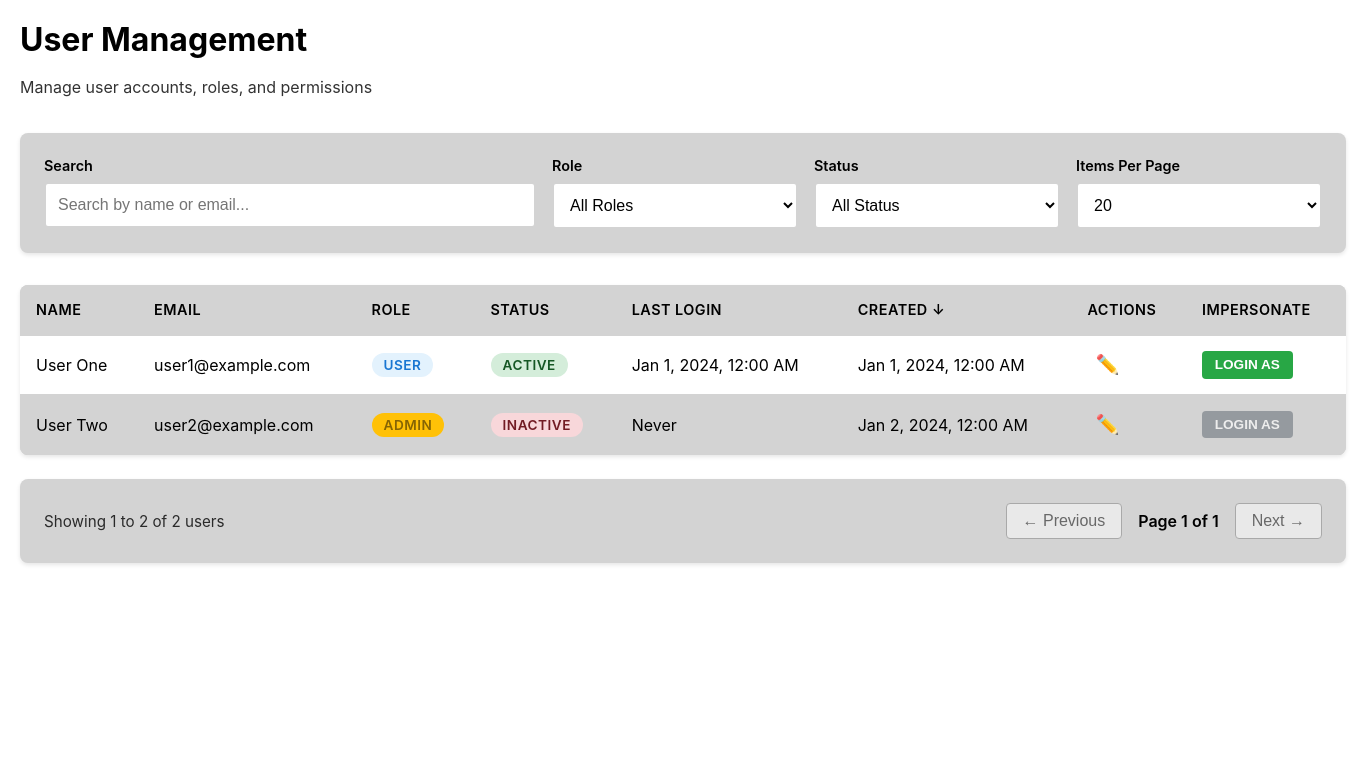
Test case: UserManagement › should open edit modal when edit button is clicked
Expected: the text "User One" is shown, [20, 335, 138, 395]
What coordinates should you click on to do the following:
click the button titled "Edit user" in the row of "User One"
I would click on:
 (1107, 365)
Its box is [1087, 345, 1127, 384].
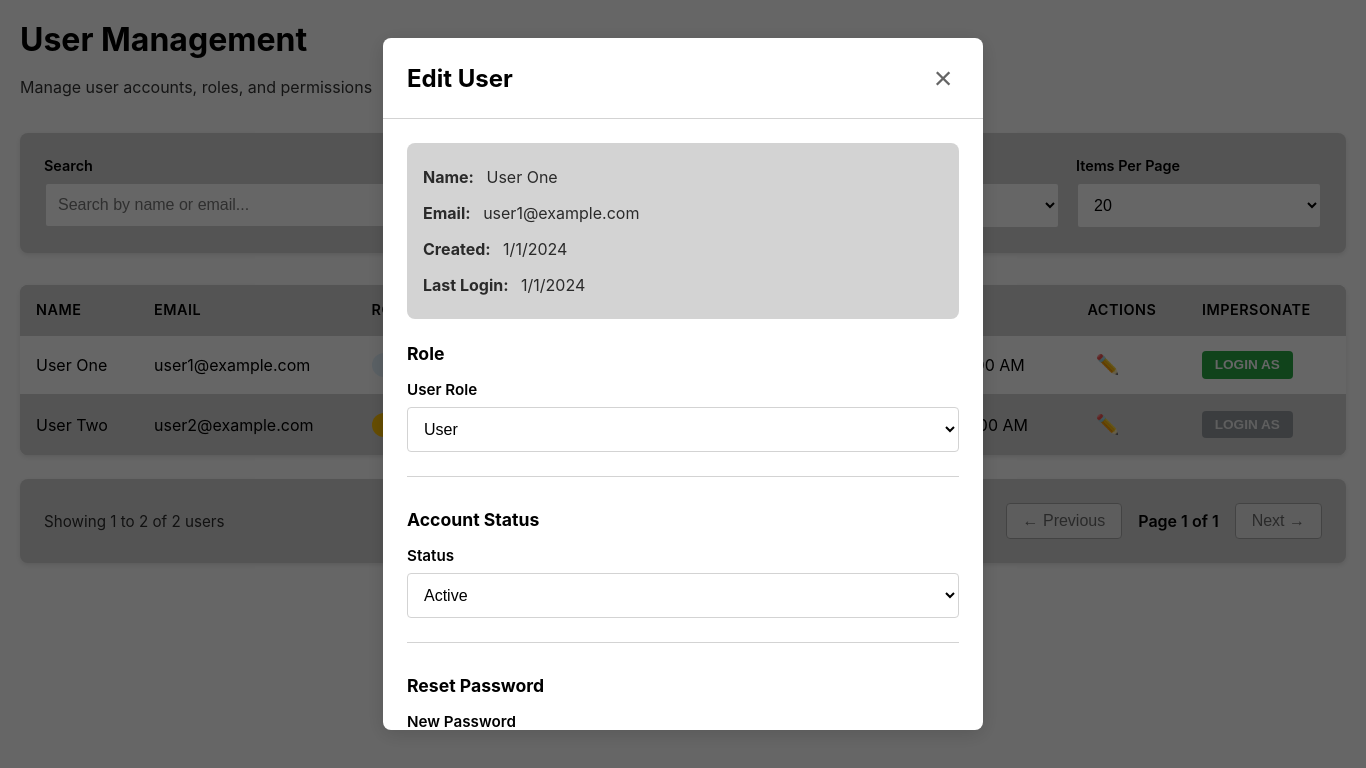
Expected: the heading "Edit User" is shown, [407, 64, 513, 93]
